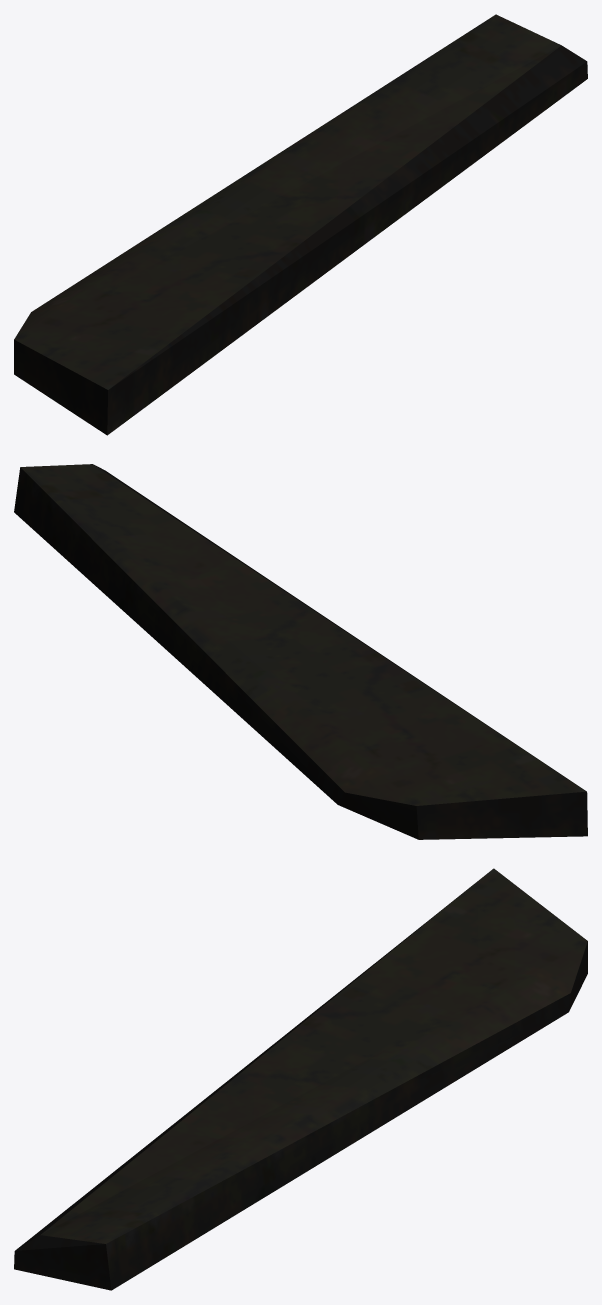
The model's file is shards_glass_single_04.dae.
3 renders of one model, top to bottom at view 1: azimuth 90°, elevation 25°; view 2: azimuth 150°, elevation 25°; view 3: azimuth 270°, elevation 25°, orthographic.
Visible parts, largest first — view 1: 04; view 2: 04; view 3: 04.
Part boxes in pixels (<box>): 04: <box>14,14,587,435</box>; 04: <box>14,464,587,839</box>; 04: <box>14,868,587,1290</box>.
Size of the model in its own units: 0.1723 by 0.00953 by 0.1105.
